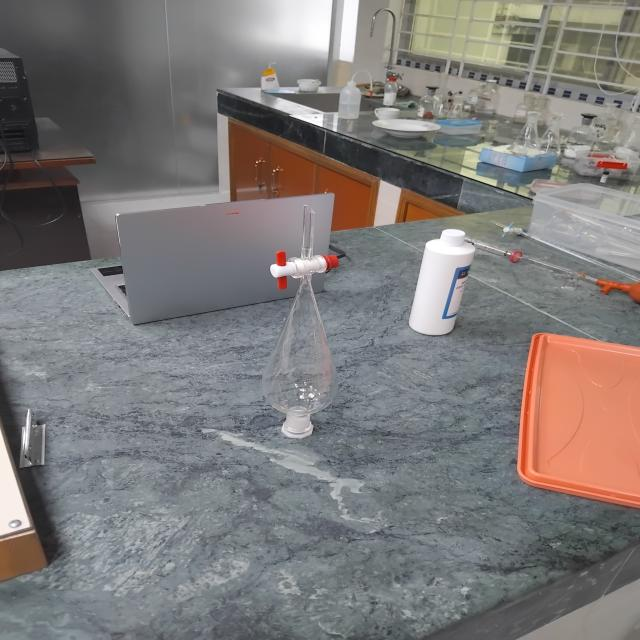Separating_Funnel: (234, 192, 365, 450)
